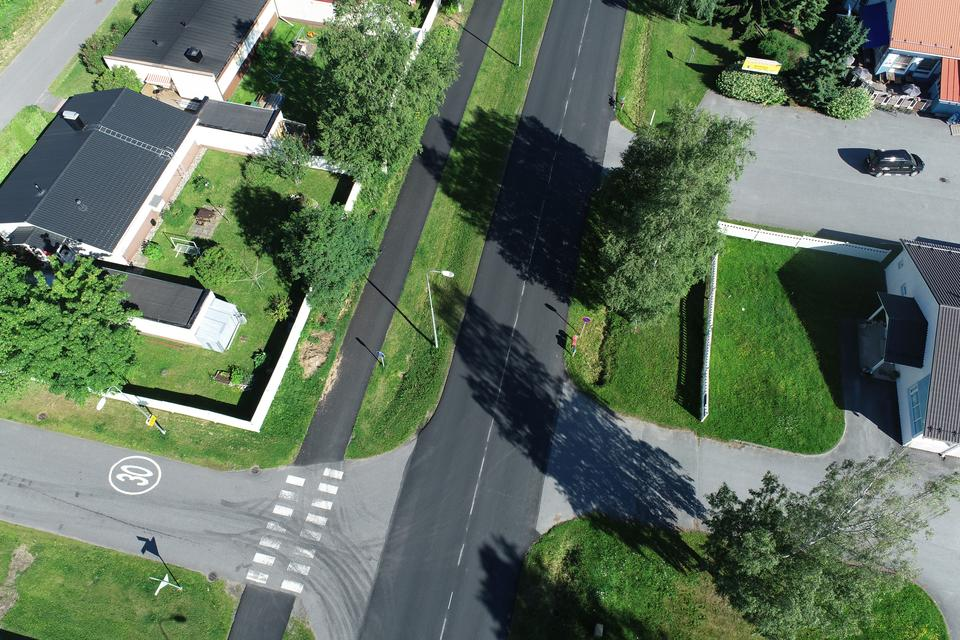intersection: (213, 441, 417, 631)
